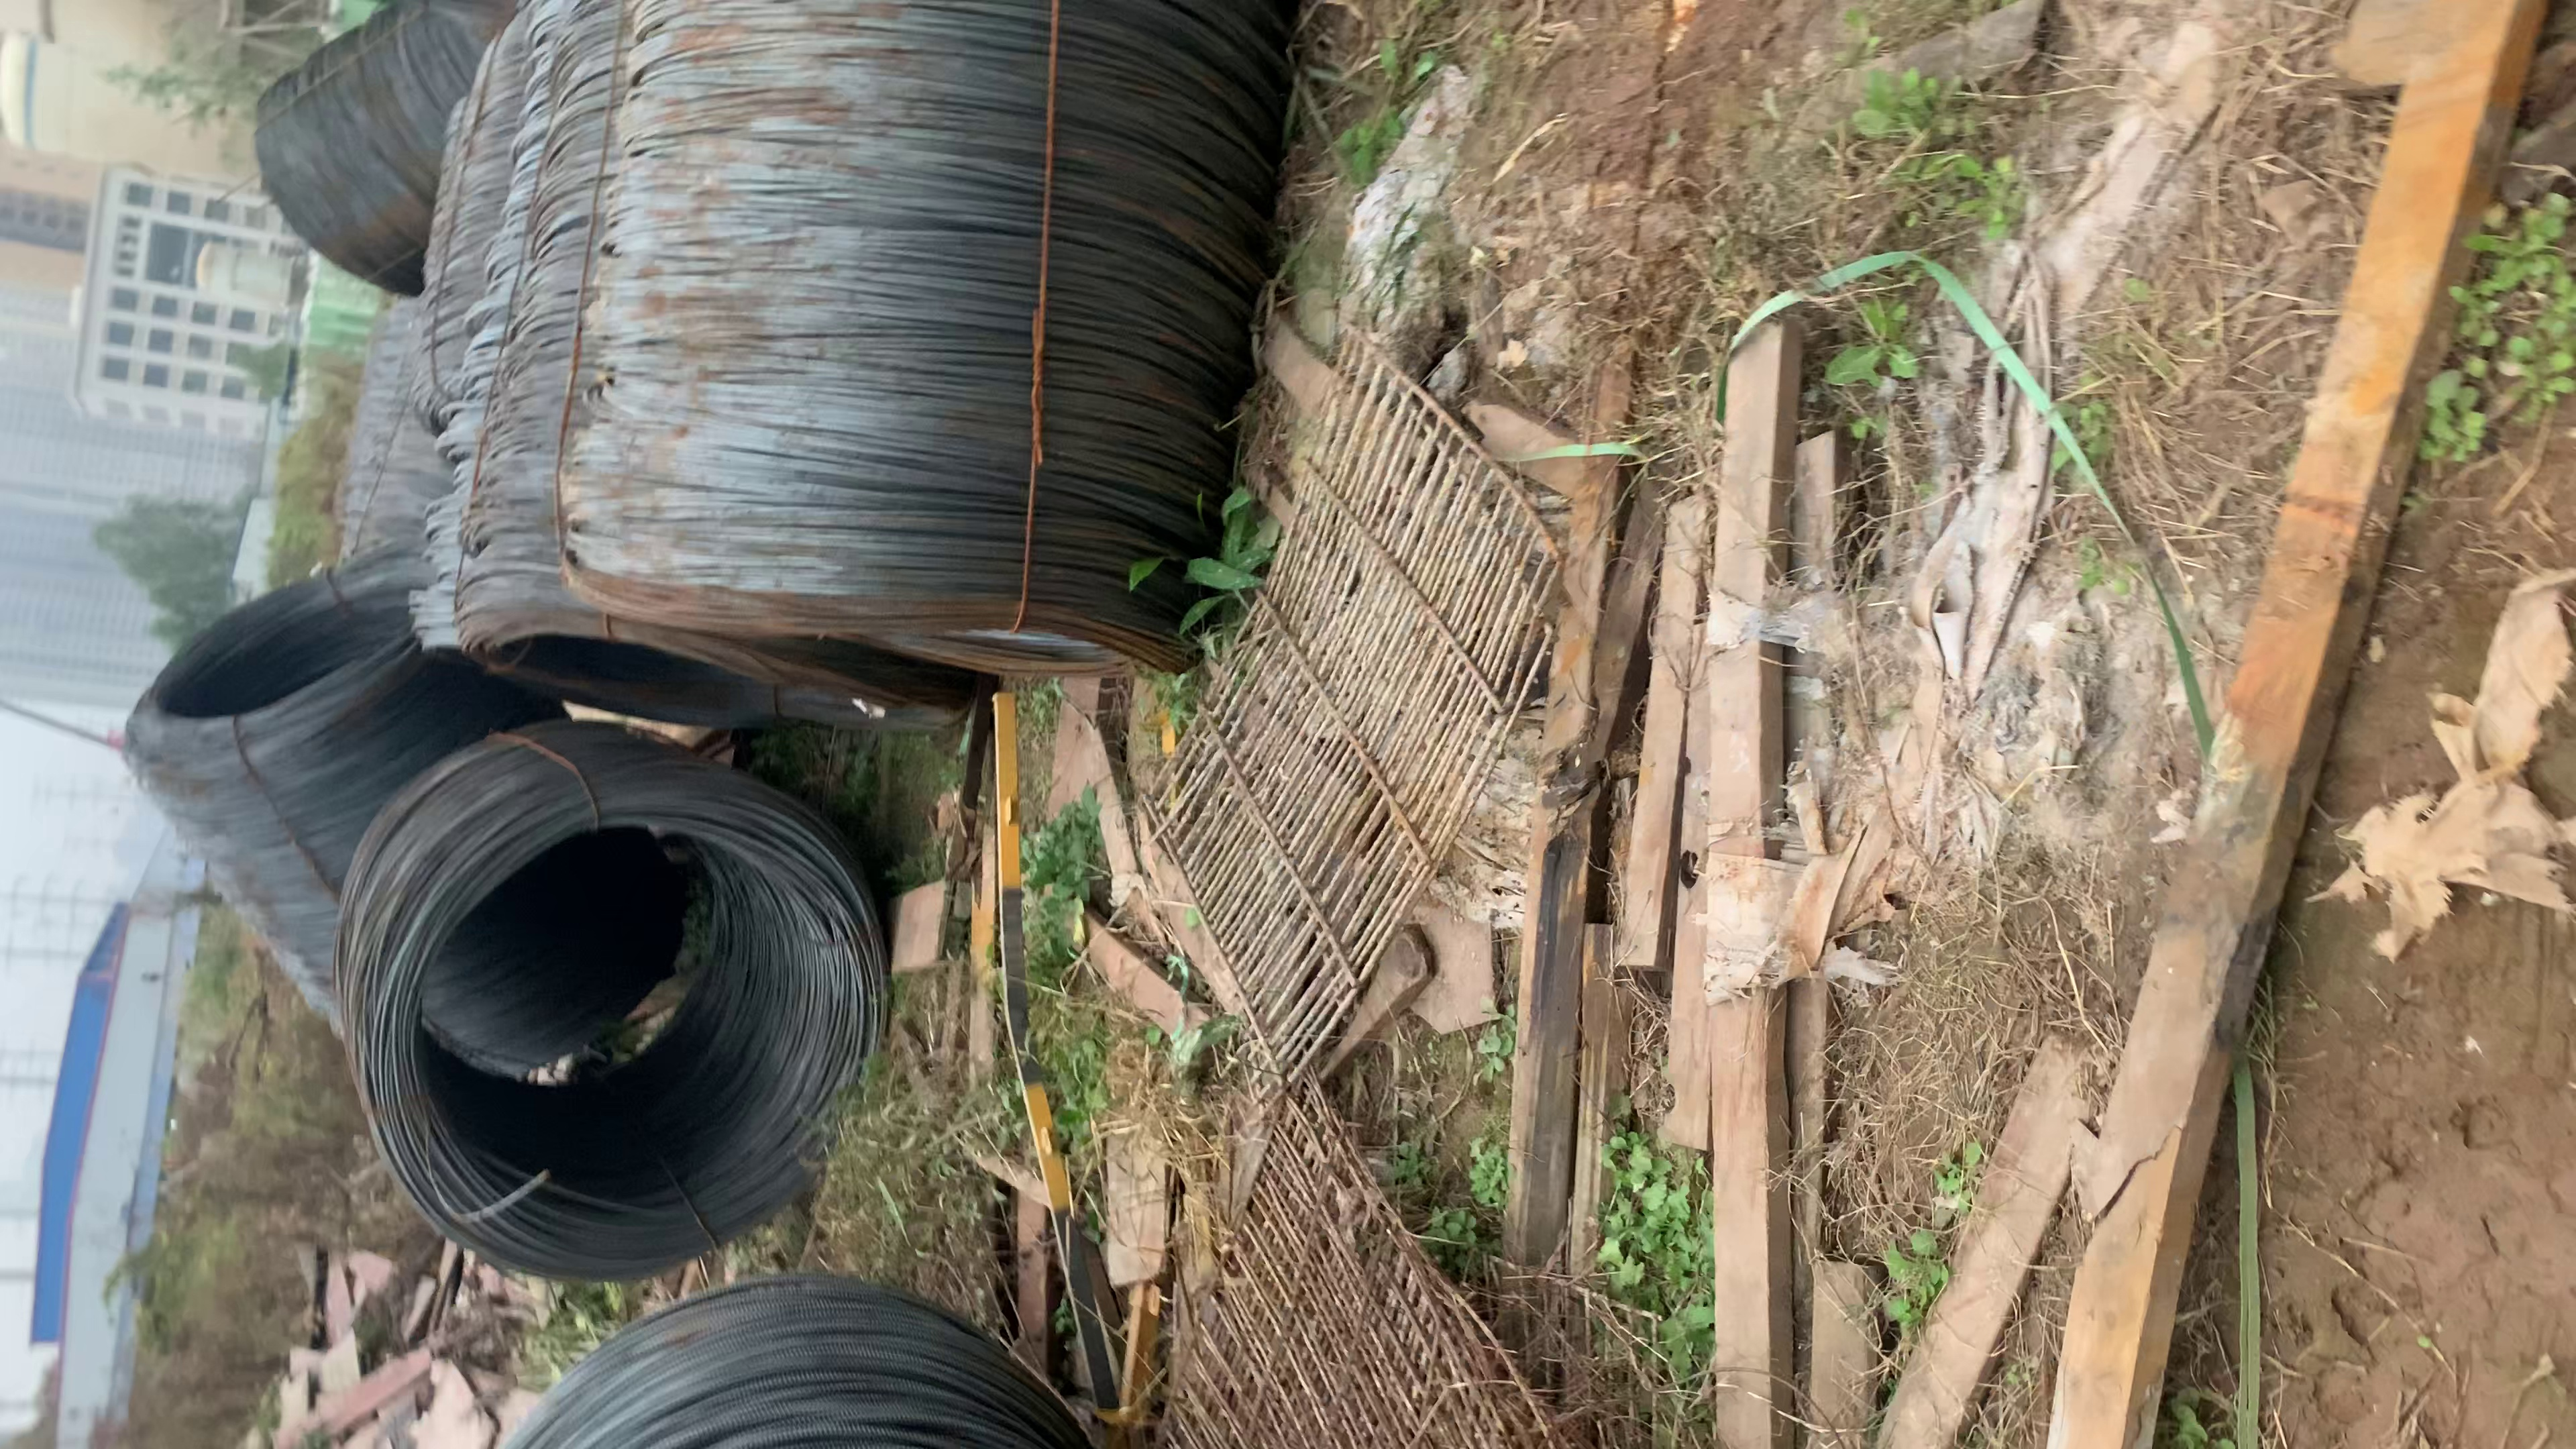coil: (359, 800, 904, 1267), (449, 610, 975, 755), (106, 550, 449, 752)
